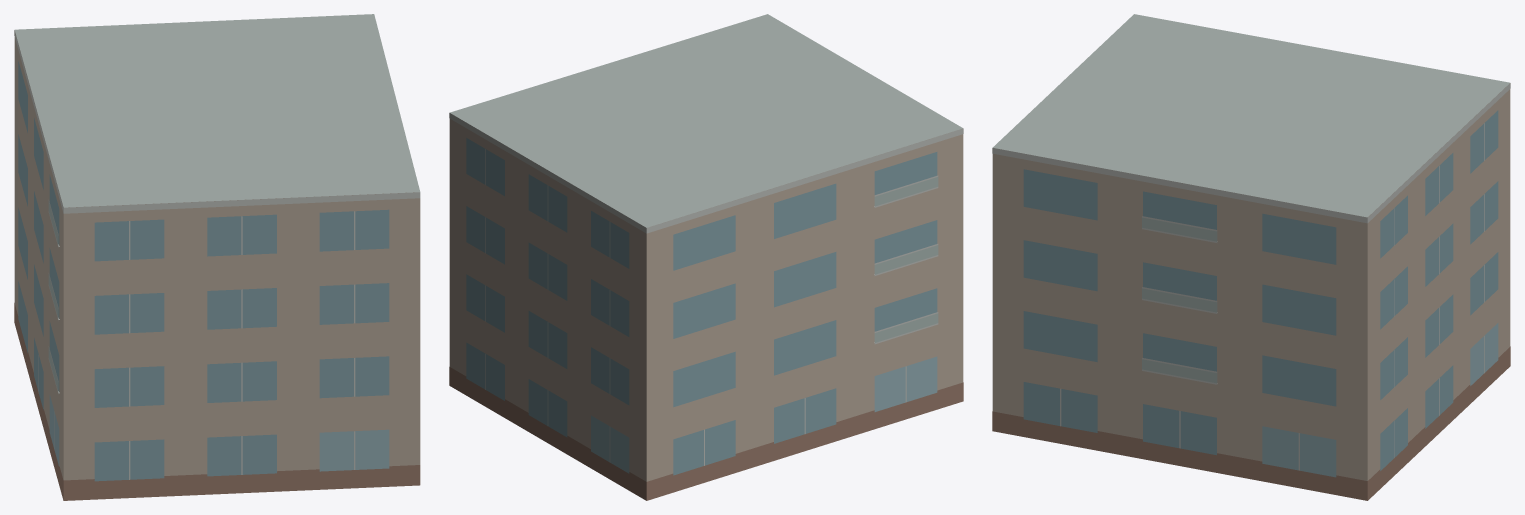
Rendered from survey-upis-32817301.glb.
3 views of the same model, side by side, from view 1: azimuth 30°, elevation 25°; view 2: azimuth 150°, elevation 25°; view 3: azimuth 270°, elevation 25° (orthographic). The views are drawn at different scales.
Parts seen in each view (by area): view 1: survey-upis-32817301.tmp; view 2: survey-upis-32817301.tmp; view 3: survey-upis-32817301.tmp.
Boxes of the visible parts, left/top/right/bottom form: survey-upis-32817301.tmp: left=14, top=14, right=420, bottom=500; survey-upis-32817301.tmp: left=449, top=14, right=963, bottom=500; survey-upis-32817301.tmp: left=992, top=14, right=1510, bottom=500.
Size of the model in its own units: 18.02 by 11.7 by 19.39.
